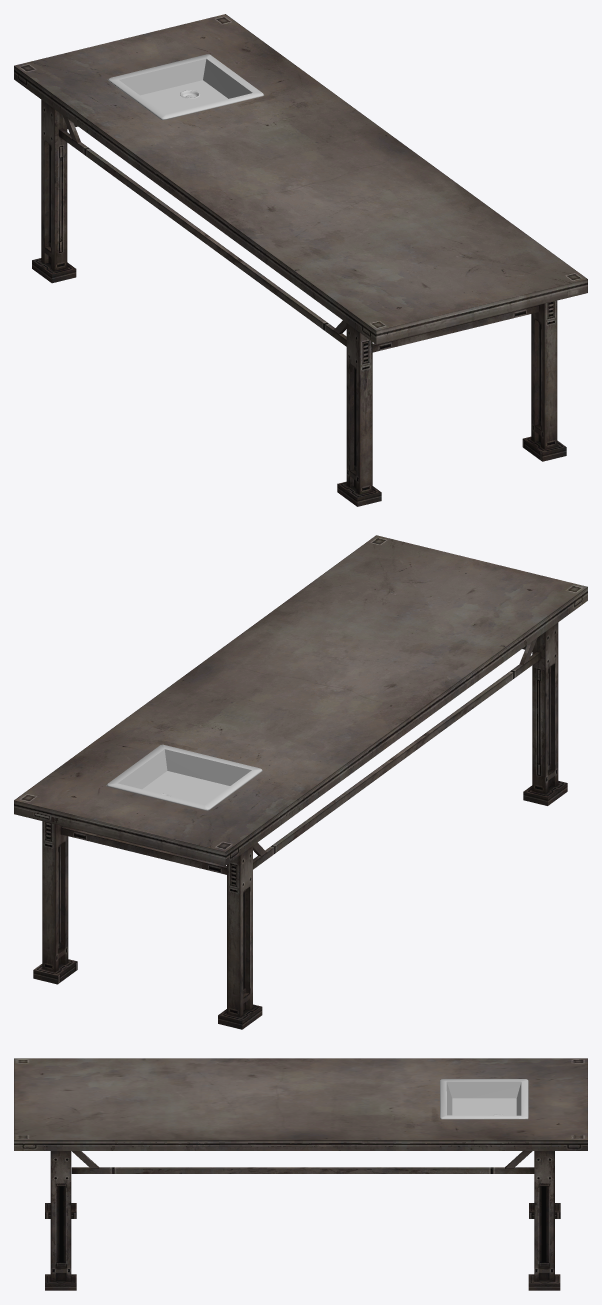
File: table_lab_med_long_sink.dae
3 views of the same model, one above another, from view 1: azimuth 30°, elevation 25°; view 2: azimuth 150°, elevation 25°; view 3: azimuth 270°, elevation 25° (orthographic). The views are drawn at different scales.
Parts seen in each view (by area): view 1: table, sink; view 2: table, sink; view 3: table, sink.
Part boxes in pixels (left/top/right/bottom): table: left=14, top=14, right=587, bottom=506; sink: left=108, top=54, right=264, bottom=119; table: left=14, top=535, right=587, bottom=1029; sink: left=106, top=744, right=262, bottom=810; table: left=14, top=1058, right=587, bottom=1290; sink: left=440, top=1079, right=528, bottom=1119.
Bounding box in the file's own units: 1.22 × 1.06 × 3.63.
